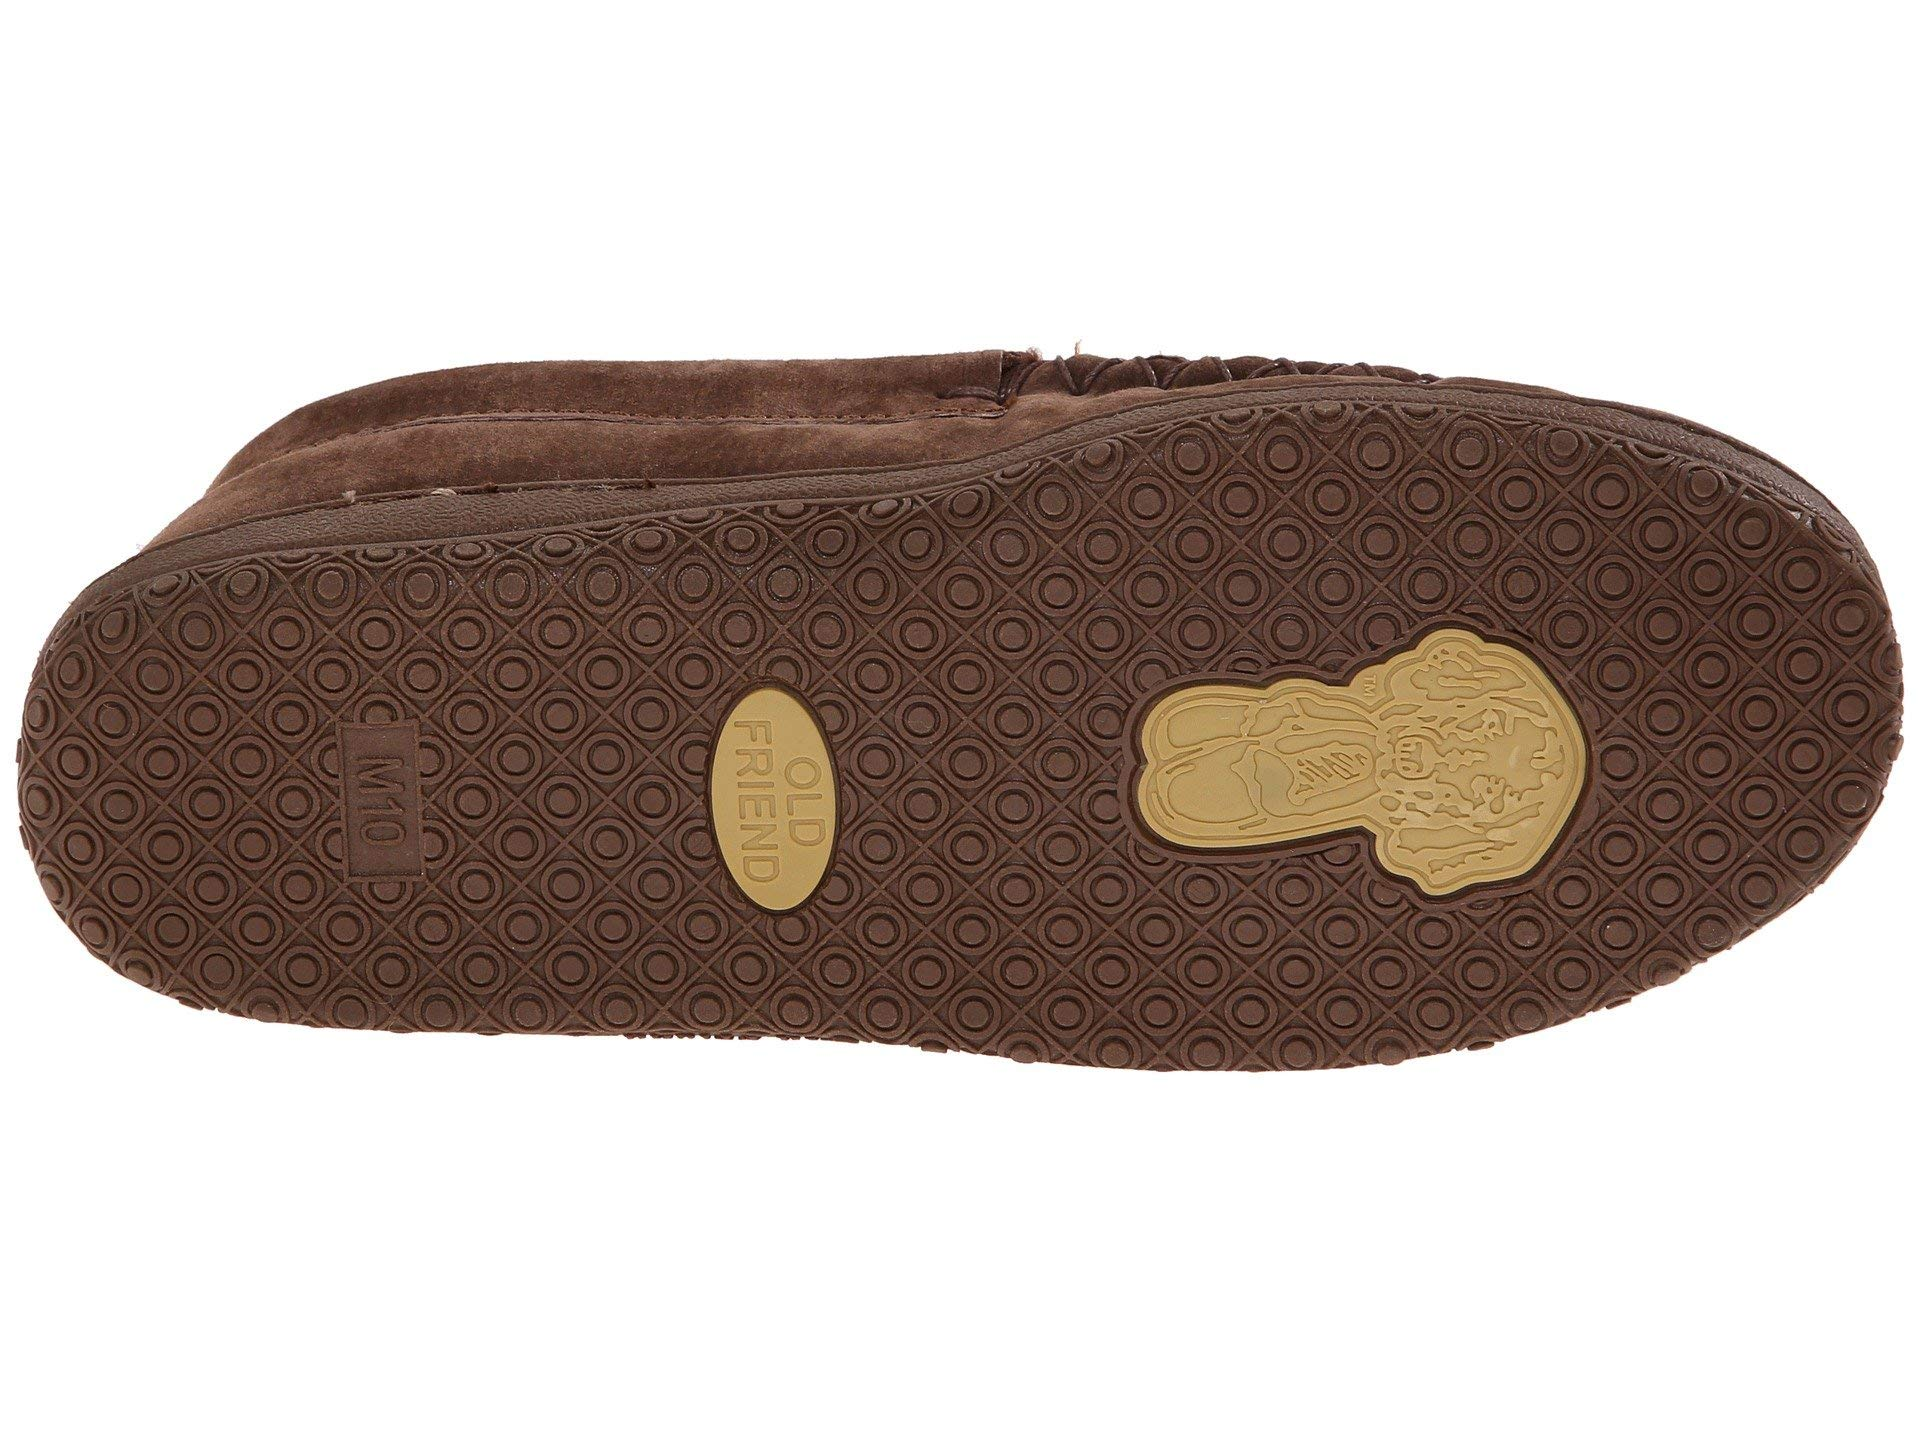circle: (426, 578, 705, 849), (692, 650, 909, 924), (249, 667, 460, 898)
quad: (426, 578, 705, 849), (692, 650, 909, 924), (249, 667, 460, 898)
text: (692, 650, 909, 924), (249, 667, 460, 898)
